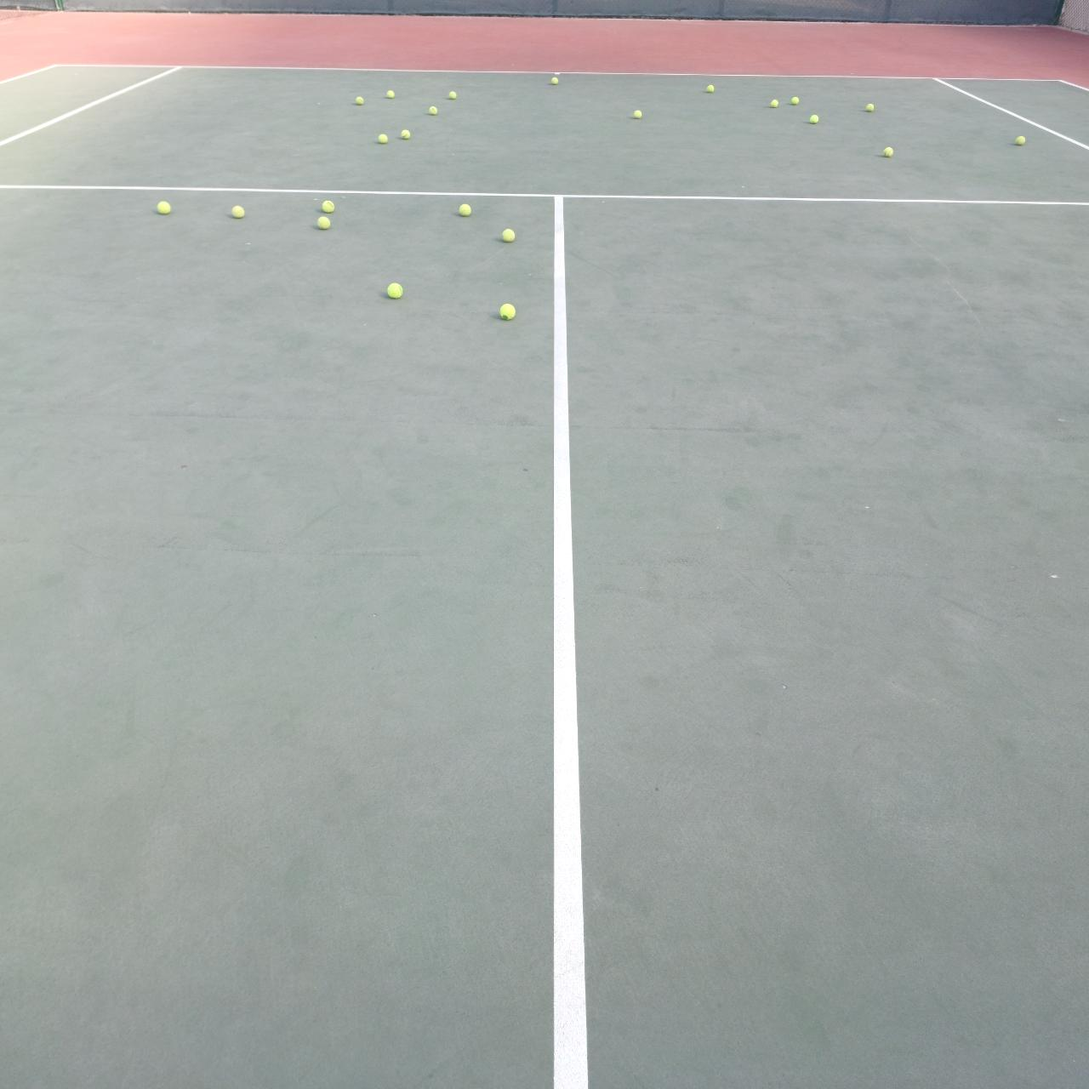tennis-ball: (498, 301, 516, 320), (385, 280, 402, 299), (155, 199, 171, 214), (500, 228, 515, 243), (230, 203, 245, 218), (320, 198, 334, 213), (317, 216, 331, 230), (459, 203, 471, 217), (882, 146, 893, 157), (378, 133, 388, 144), (1015, 136, 1025, 146), (810, 114, 819, 124), (865, 104, 875, 113), (401, 130, 410, 139), (355, 96, 364, 105), (429, 106, 438, 115), (634, 110, 643, 119), (448, 91, 456, 100), (770, 99, 778, 108), (791, 97, 799, 106), (386, 90, 394, 98), (551, 77, 559, 85), (706, 85, 714, 93)
